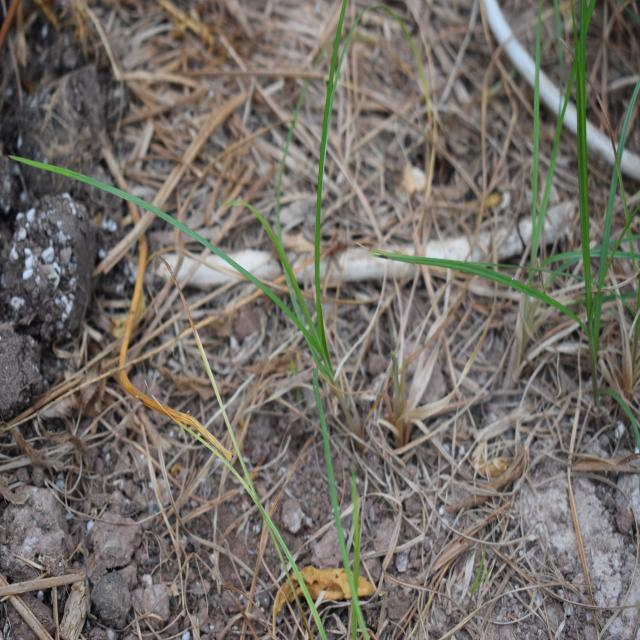sedge: (49, 119, 413, 451)
